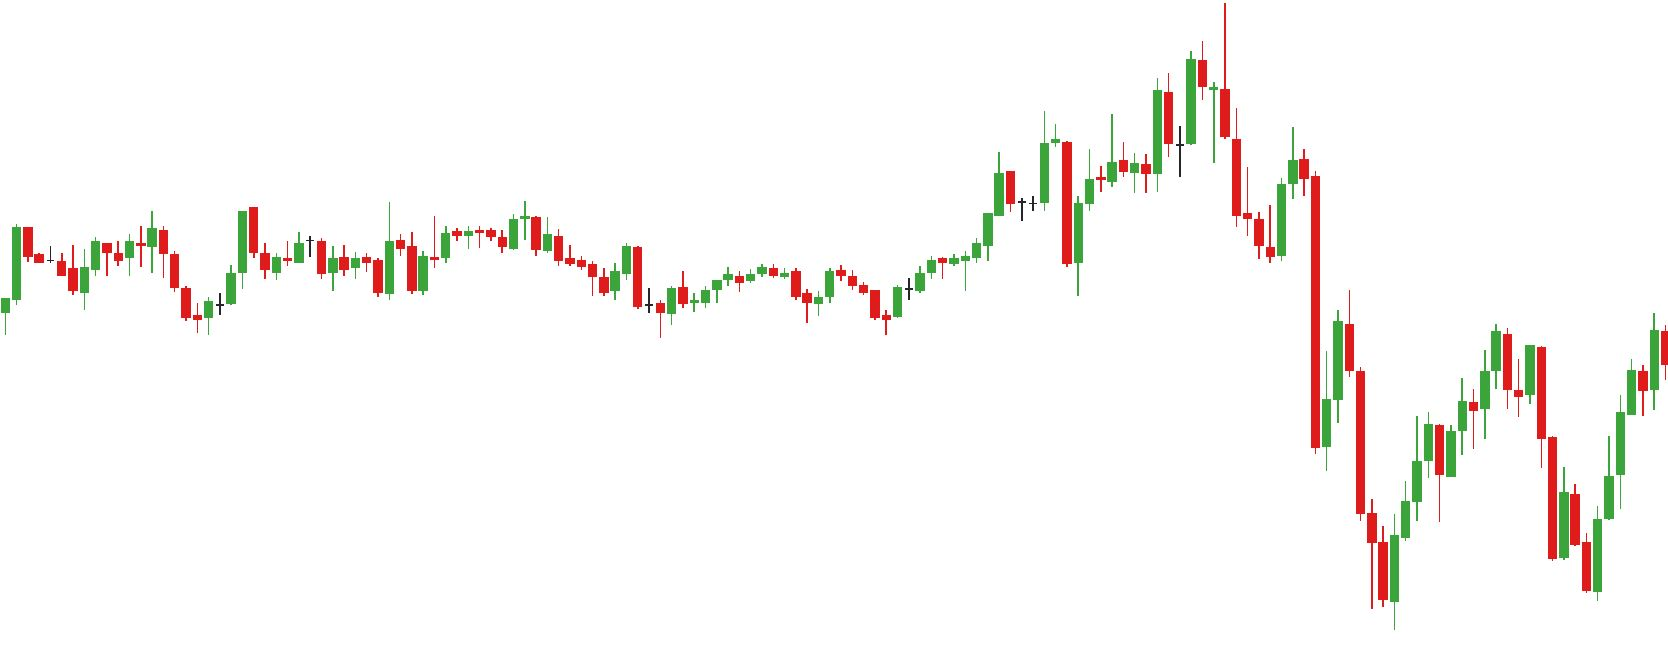buy: (78, 259, 215, 334), (981, 195, 1087, 288), (799, 288, 903, 334)
